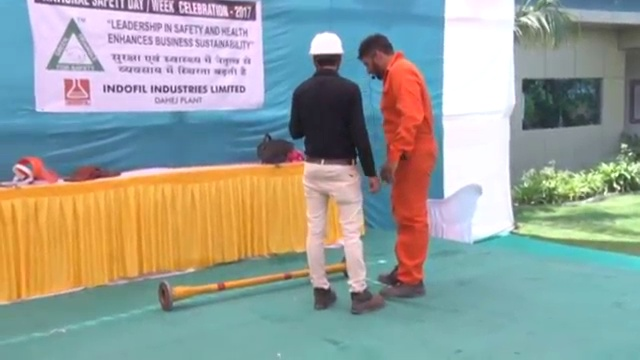helmet: (308, 30, 345, 58)
helmet_off: (358, 31, 394, 82)
helmet_on: (304, 28, 347, 73)
person: (289, 29, 381, 317), (359, 31, 440, 299)
